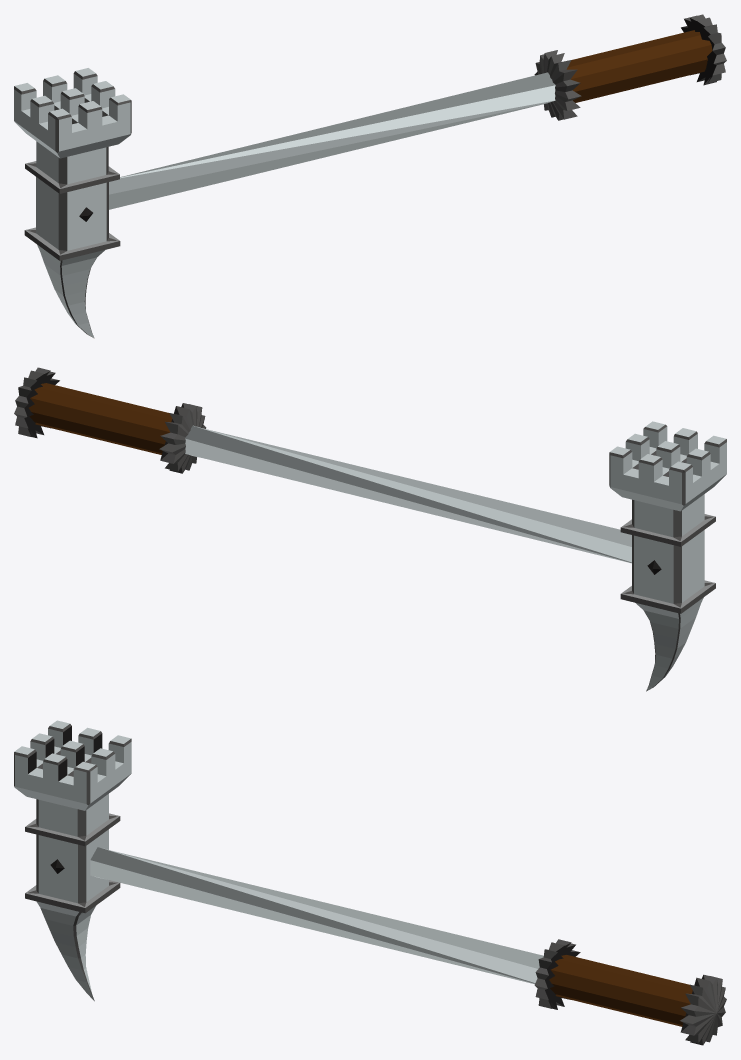
File: WarHammer.fbx
The picture shows the model from 3 angles, top to bottom: view 1: azimuth 30°, elevation 25°; view 2: azimuth 150°, elevation 25°; view 3: azimuth 330°, elevation 25°; orthographic projection.
Parts seen in each view (by area): view 1: ZomboidWarhammer; view 2: ZomboidWarhammer; view 3: ZomboidWarhammer.
Part boxes in pixels (x1,y1,x2,y2): ZomboidWarhammer: (14,14,726,338); ZomboidWarhammer: (14,367,726,691); ZomboidWarhammer: (14,720,726,1045).
Size of the model in its own units: 0.5377 by 0.1894 by 0.0601.
